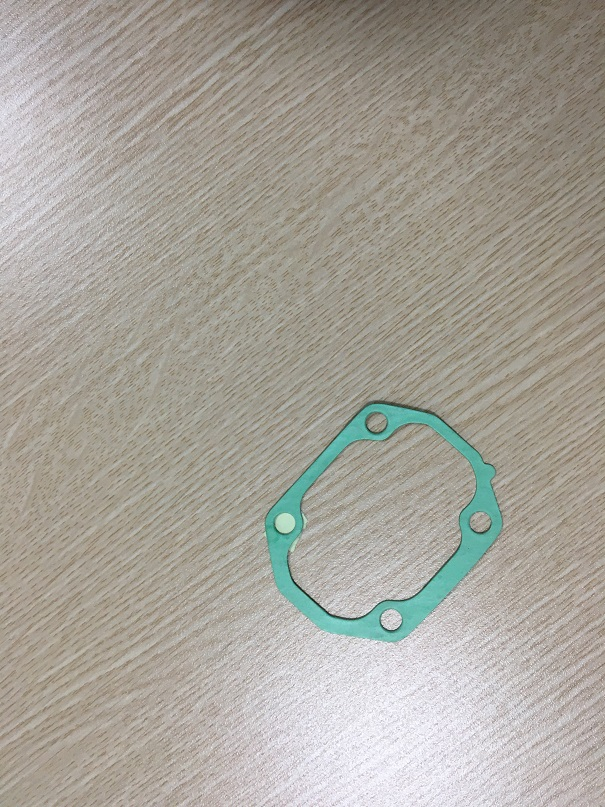type2: (256, 391, 511, 650)
